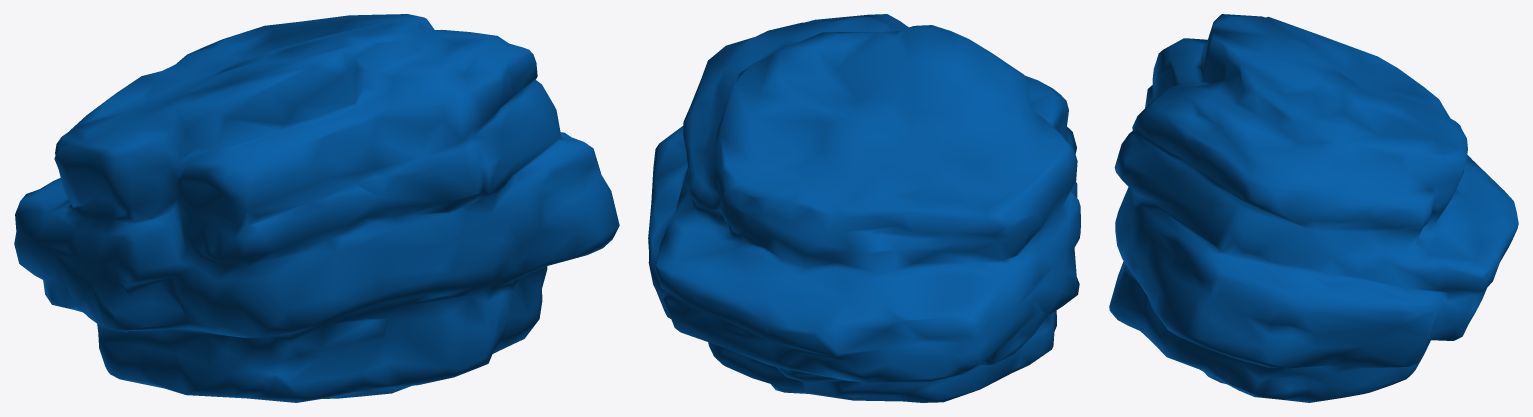
Rendered from stone_mid_3.glb.
The picture shows the model from 3 angles, left to right: view 1: azimuth 30°, elevation 25°; view 2: azimuth 150°, elevation 25°; view 3: azimuth 270°, elevation 25°; orthographic projection. The views are drawn at different scales.
Visible parts, largest first — view 1: Mid_3; view 2: Mid_3; view 3: Mid_3.
Part boxes in pixels (left/top/right/bottom): Mid_3: left=14, top=14, right=619, bottom=402; Mid_3: left=648, top=14, right=1080, bottom=402; Mid_3: left=1109, top=14, right=1518, bottom=402.
Size of the model in its own units: 4.13 by 3.05 by 3.59.
Materials: 1 (1 with a texture image).
